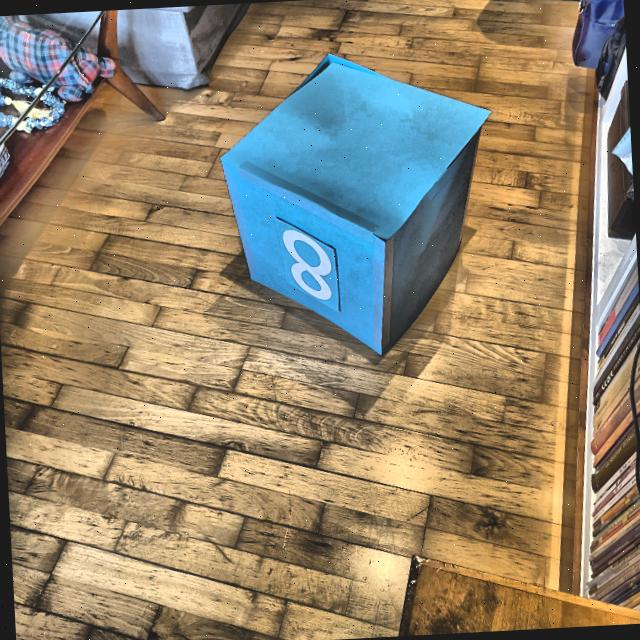blue box: (213, 47, 494, 368)
eight: (277, 220, 349, 308)
